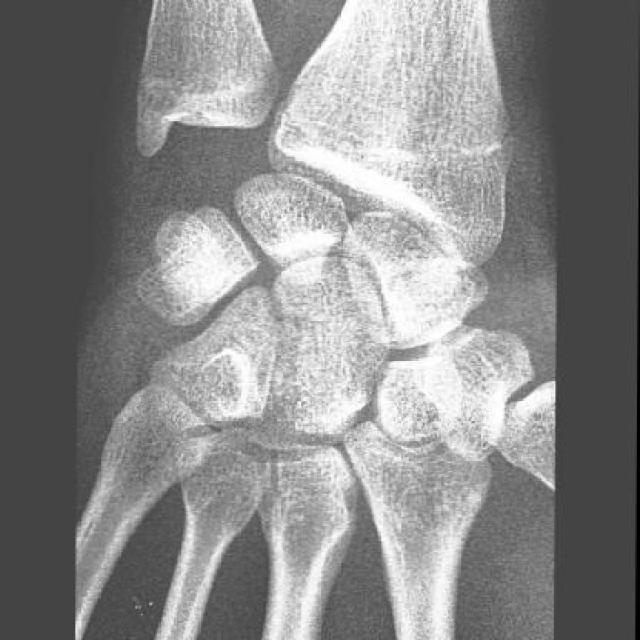Fracture: (246, 306, 381, 446), (380, 248, 482, 317)
